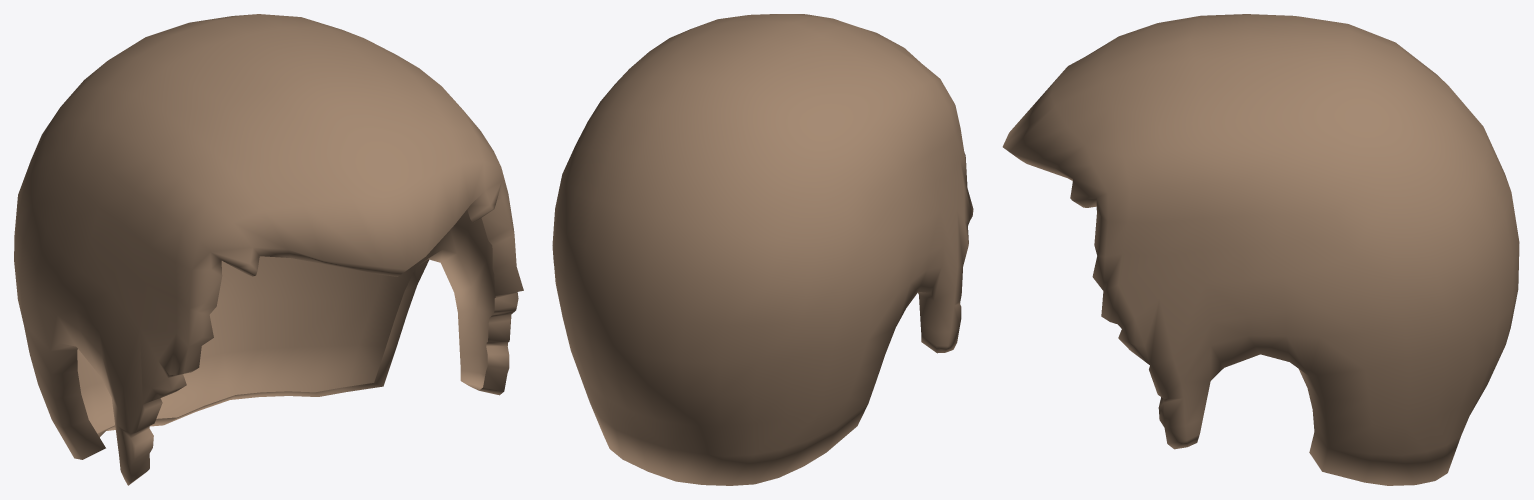
File: quaternius_hair_buzzed.glb
3 renders of one model, left to right at view 1: azimuth 30°, elevation 25°; view 2: azimuth 150°, elevation 25°; view 3: azimuth 270°, elevation 25°, orthographic. The views are drawn at different scales.
Parts seen in each view (by area): view 1: Hair_Buzzed; view 2: Hair_Buzzed; view 3: Hair_Buzzed.
Part boxes in pixels (bbox=[...]): Hair_Buzzed: bbox=[14, 14, 523, 485]; Hair_Buzzed: bbox=[552, 14, 973, 485]; Hair_Buzzed: bbox=[1002, 14, 1519, 485].
Size of the model in its own units: 0.1546 by 0.1694 by 0.1909.
